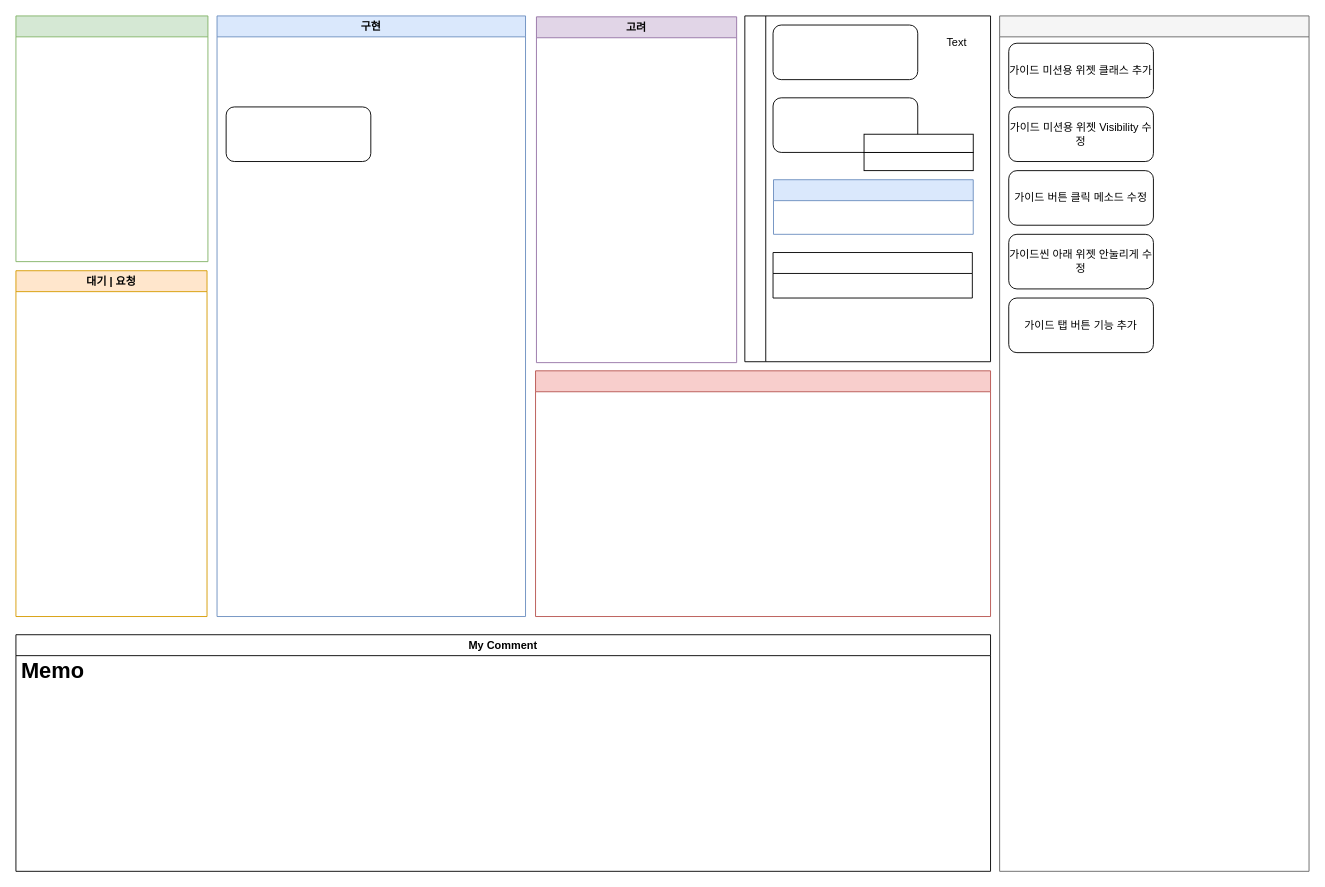
The diagram is 1325 pixels wide and 887 high, and some of its shapes have lost their labels. The box of each missing label's shape, as (x1, y1, x2, y2) in pixels:
Tool: (744, 15, 991, 362)
가이드 미션 리스트 갱신: (225, 106, 371, 162)
분석 | 논의: (15, 15, 208, 262)
에러 | 수정: (535, 370, 991, 617)
폐기 | 완료: (999, 15, 1309, 871)
